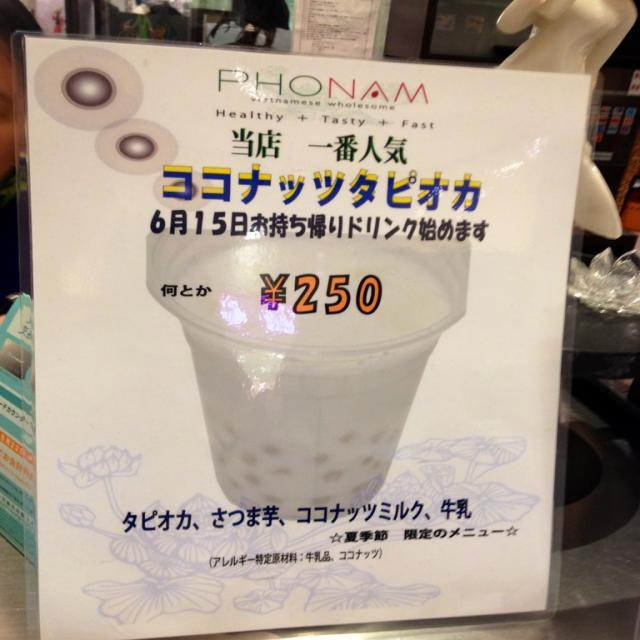Milk: (132, 186, 462, 503)
